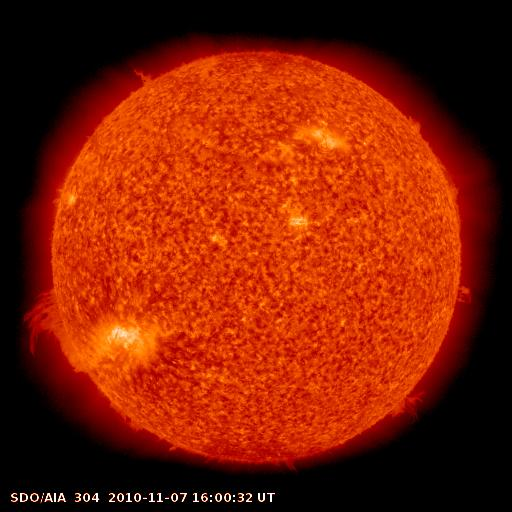prominence: (402, 104, 471, 222), (11, 277, 73, 361), (367, 377, 439, 429), (119, 50, 165, 104), (104, 393, 149, 438), (453, 276, 485, 309)
